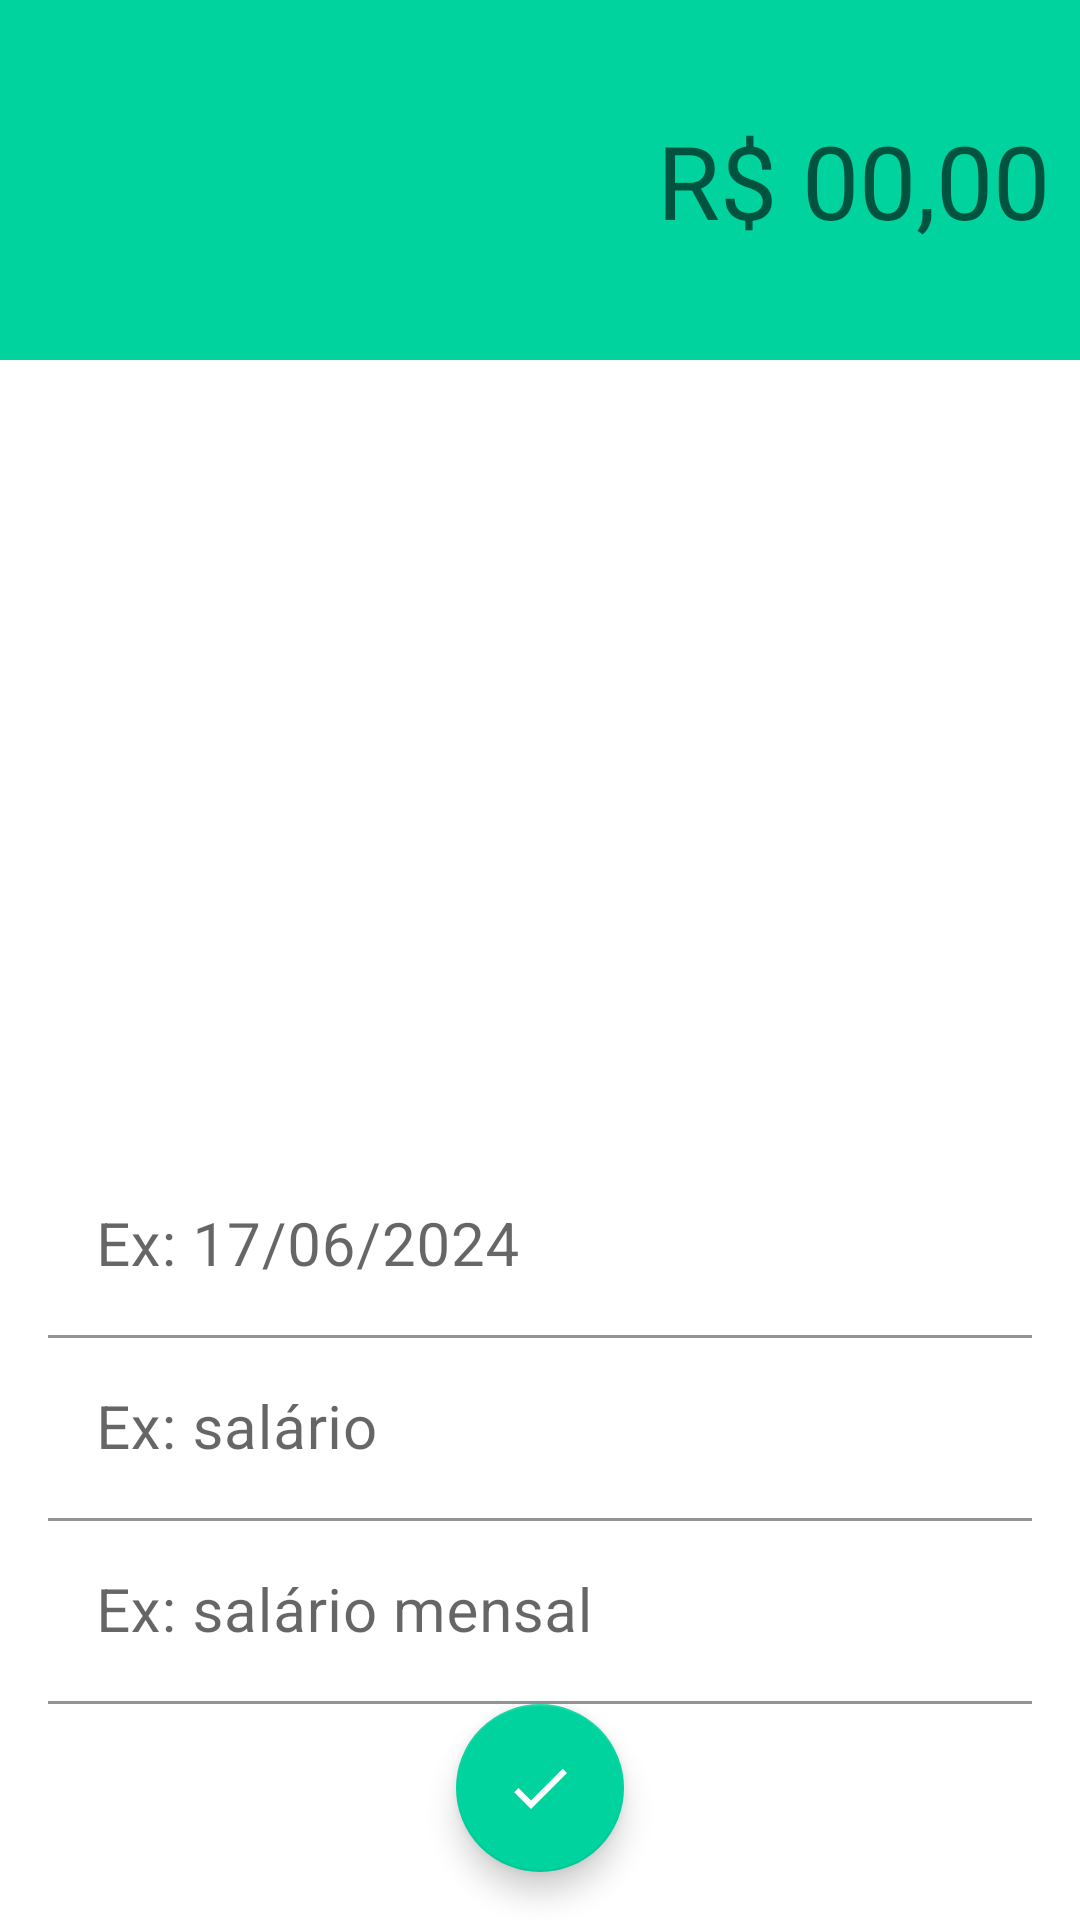

Named icons in this screenshot (1080x1920) and their bounding boxes, box(x1, y1, x2, y2):
confirma branco: box(456, 1704, 624, 1872)
